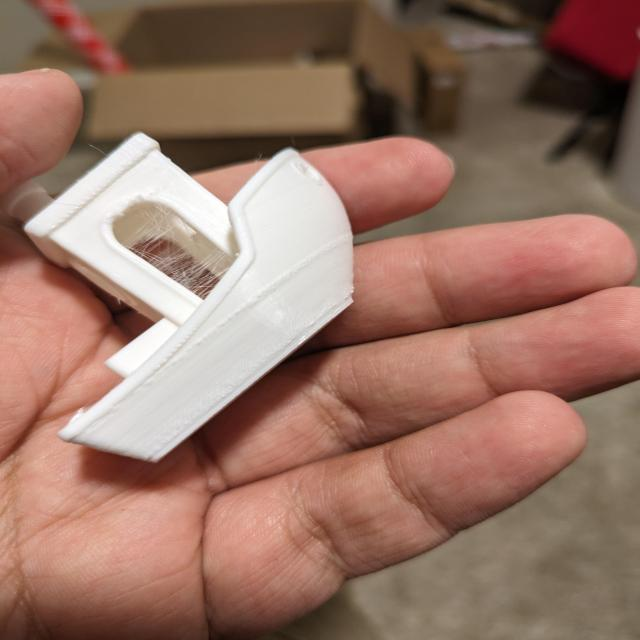Stringing: (116, 202, 234, 299)
